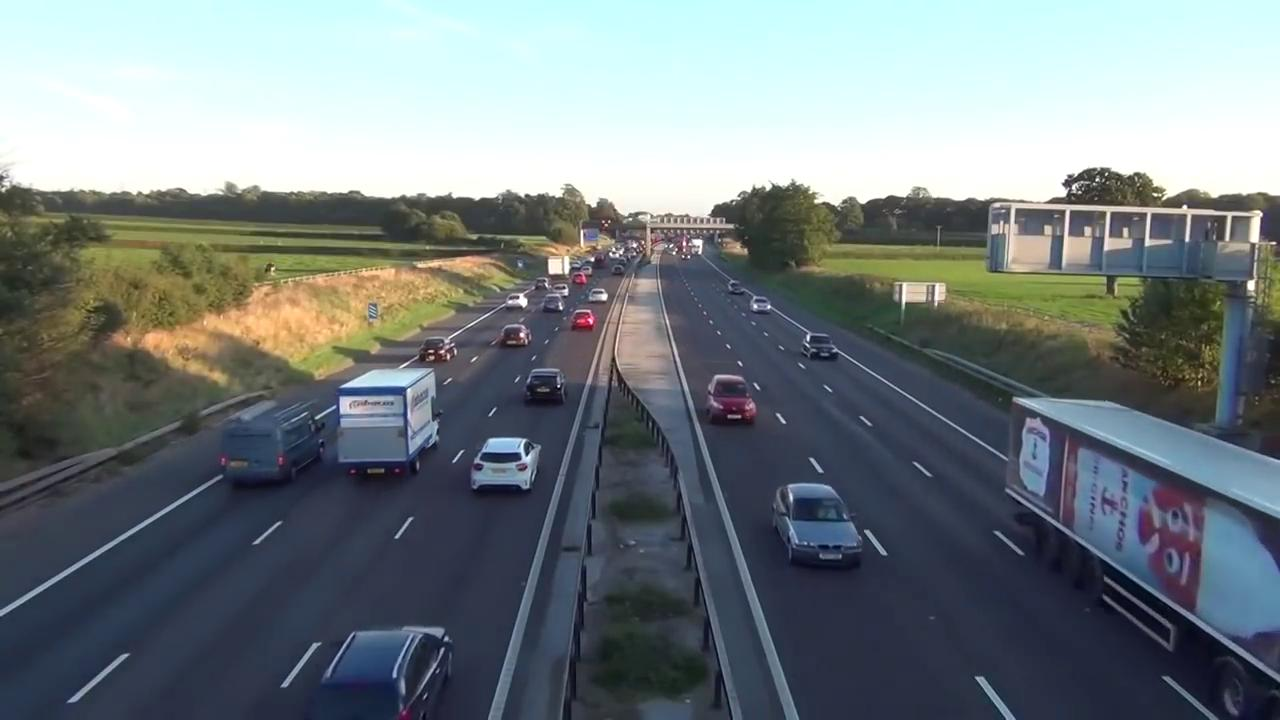bus: (337, 367, 442, 450)
car: (706, 376, 761, 421), (524, 368, 566, 403), (803, 334, 837, 359), (494, 325, 530, 347), (573, 310, 598, 330), (539, 297, 563, 313), (589, 290, 608, 303)
